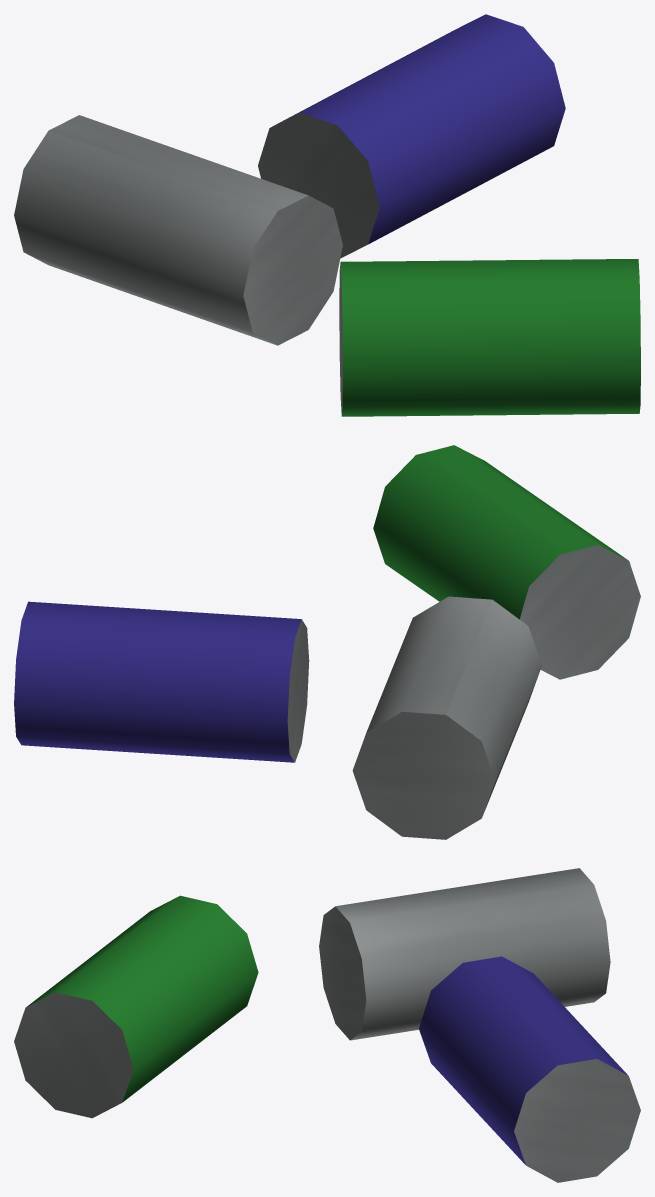
Rendered from Cans_Trash.fbx.
3 renders of one model, top to bottom at view 1: azimuth 30°, elevation 25°; view 2: azimuth 150°, elevation 25°; view 3: azimuth 270°, elevation 25°, orthographic. The views are drawn at different scales.
Visible parts, largest first — view 1: Cans_Trash; view 2: Cans_Trash; view 3: Cans_Trash.
Part boxes in pixels (x1,y1,x2,y2): Cans_Trash: [14, 14, 640, 416]; Cans_Trash: [14, 445, 640, 839]; Cans_Trash: [14, 868, 640, 1182].
Size of the model in its own units: 51.19 by 12.58 by 60.77.
